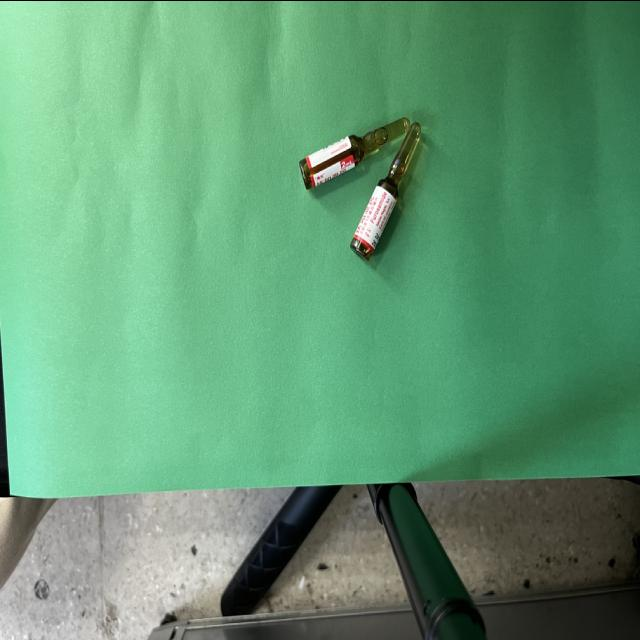Ampoules: (350, 123, 420, 259), (300, 117, 410, 188)
